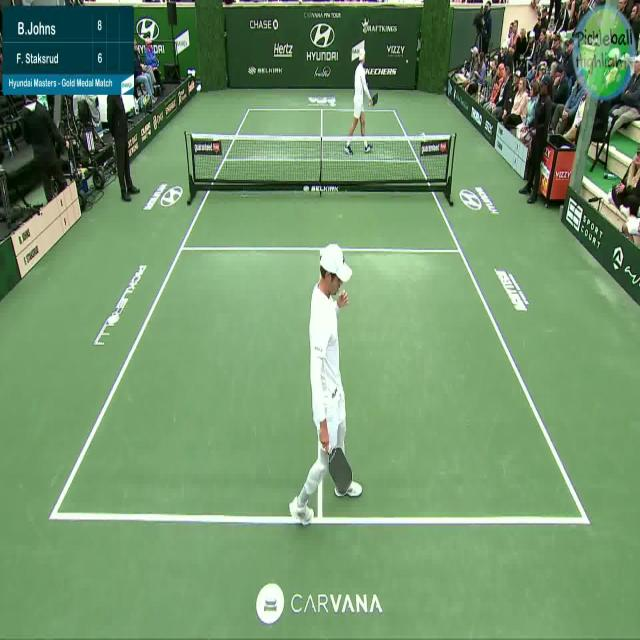Court: (51, 107, 586, 522)
